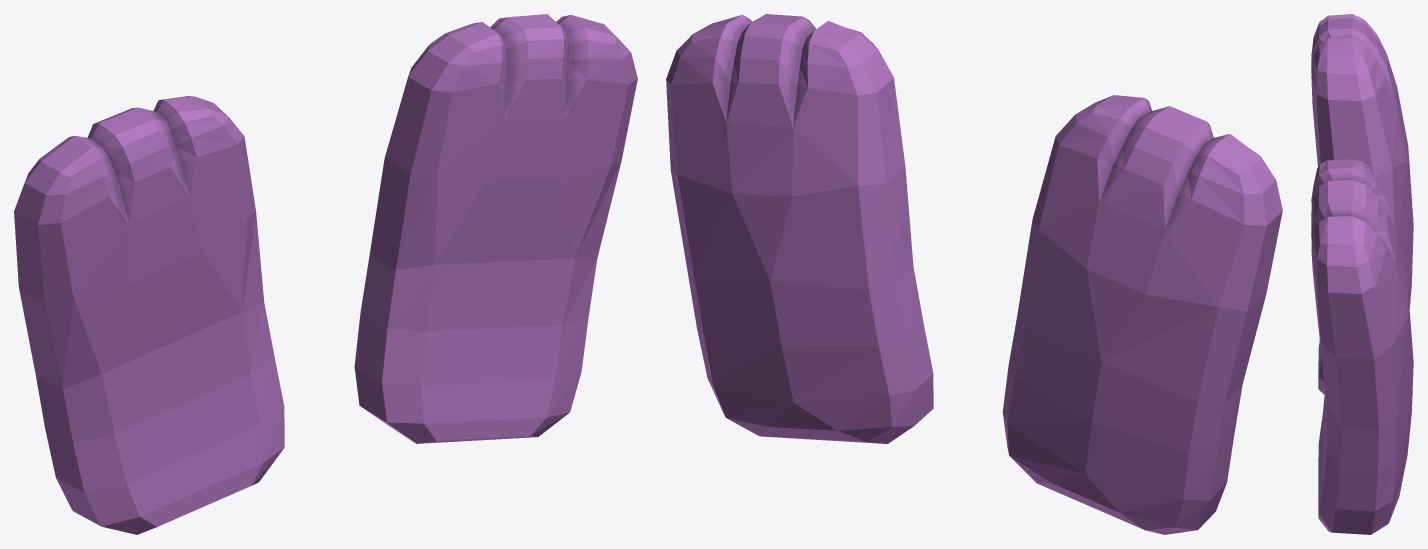
The model's file is BR_Quagsire-Shiny01.obj.
3 views of the same model, side by side, from view 1: azimuth 30°, elevation 25°; view 2: azimuth 150°, elevation 25°; view 3: azimuth 270°, elevation 25° (orthographic). The views are drawn at different scales.
Visible parts, largest first — view 1: nuoh; view 2: nuoh; view 3: nuoh.
Boxes of the visible parts, x1,y1,x2,y2 form: nuoh: (14, 14, 637, 534); nuoh: (666, 14, 1282, 534); nuoh: (1311, 14, 1413, 534).
Bounding box in the file's own units: 7.35 × 4.8 × 1.28.
1 material, 1 textured.
